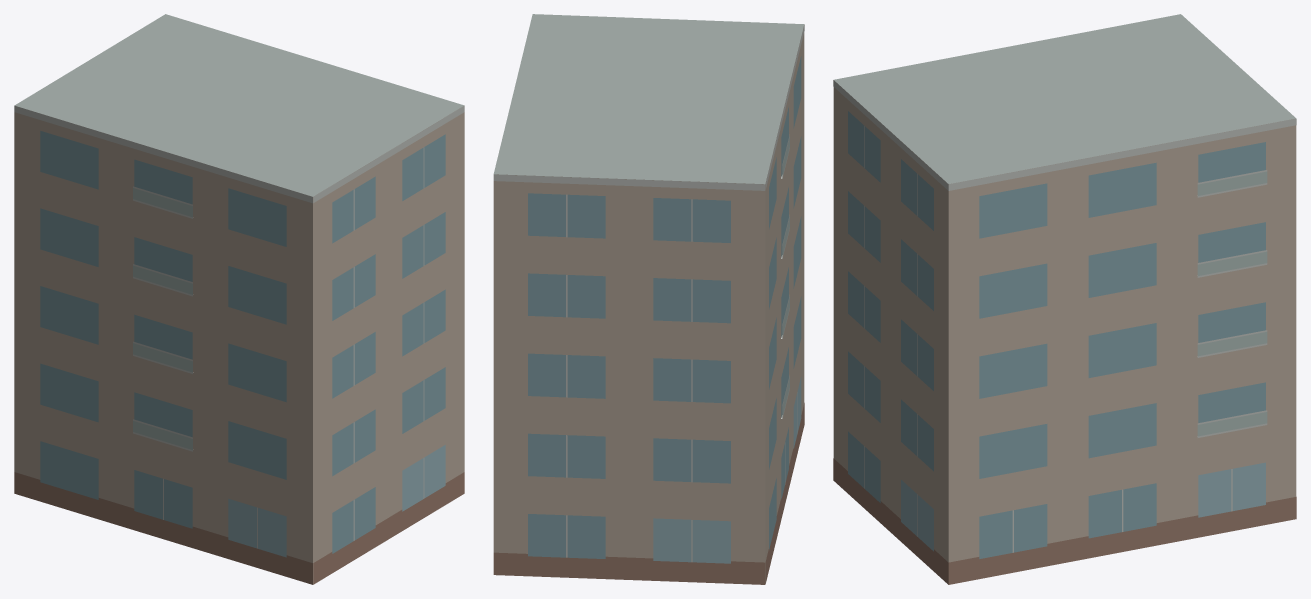
Rendered from survey-upis-32702244.glb.
3 views of the same model, side by side, from view 1: azimuth 30°, elevation 25°; view 2: azimuth 150°, elevation 25°; view 3: azimuth 270°, elevation 25° (orthographic). The views are drawn at different scales.
Parts seen in each view (by area): view 1: survey-upis-32702244.tmp; view 2: survey-upis-32702244.tmp; view 3: survey-upis-32702244.tmp.
Boxes of the visible parts, x1=… form: survey-upis-32702244.tmp: x1=14, y1=14, x2=464, y2=584; survey-upis-32702244.tmp: x1=493, y1=14, x2=804, y2=584; survey-upis-32702244.tmp: x1=833, y1=14, x2=1296, y2=584.
Size of the model in its own units: 13.13 by 14.4 by 15.09.
